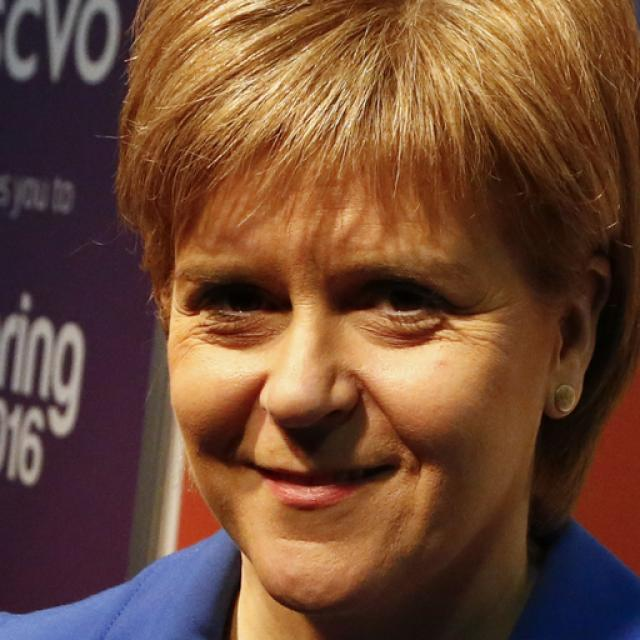Wrinkle: (361, 373, 423, 483), (459, 297, 516, 318)
